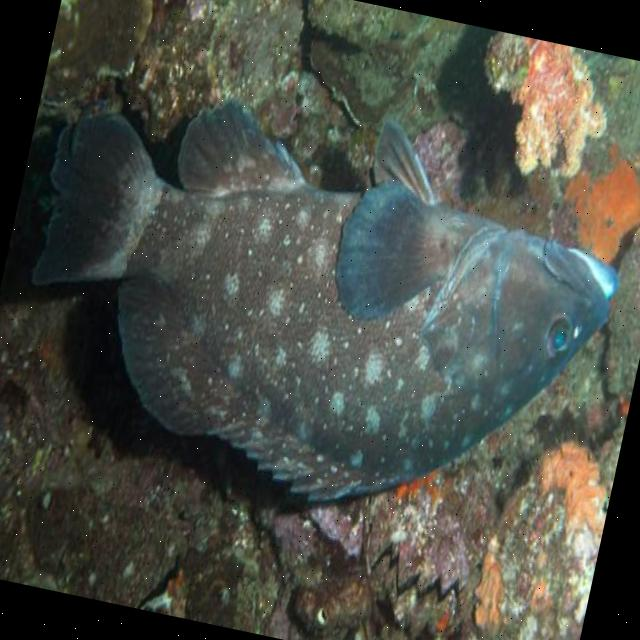ikan: (0, 51, 640, 564)
